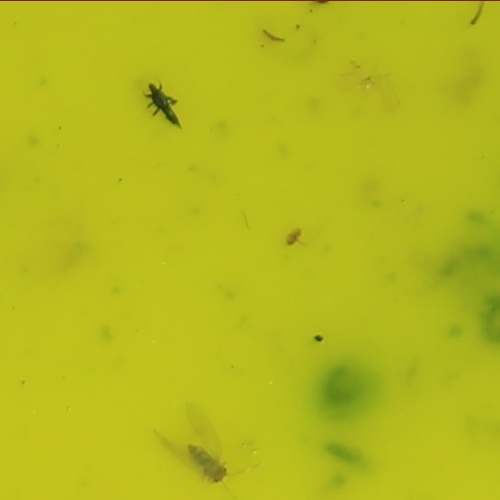psylla: (182, 442, 230, 486)
